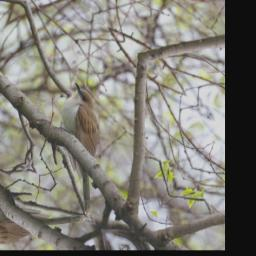Cuckoo: (15, 81, 149, 218)
